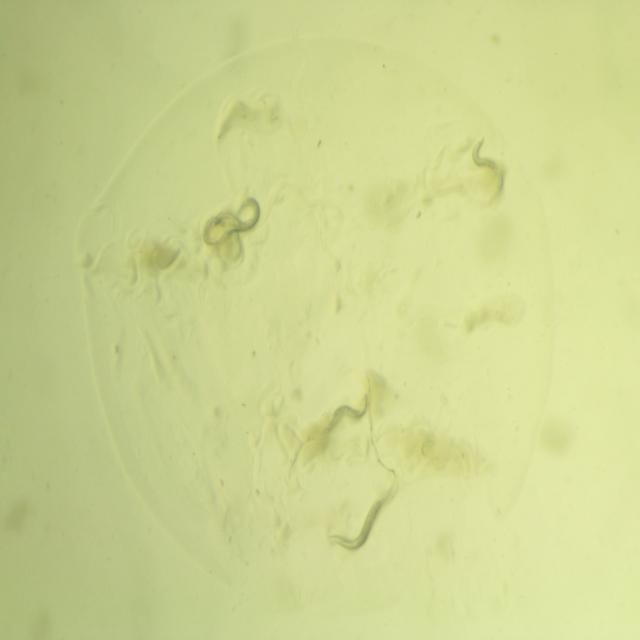worm: (325, 481, 397, 556), (306, 389, 378, 449), (466, 132, 507, 201), (210, 195, 272, 239), (196, 215, 252, 252)
